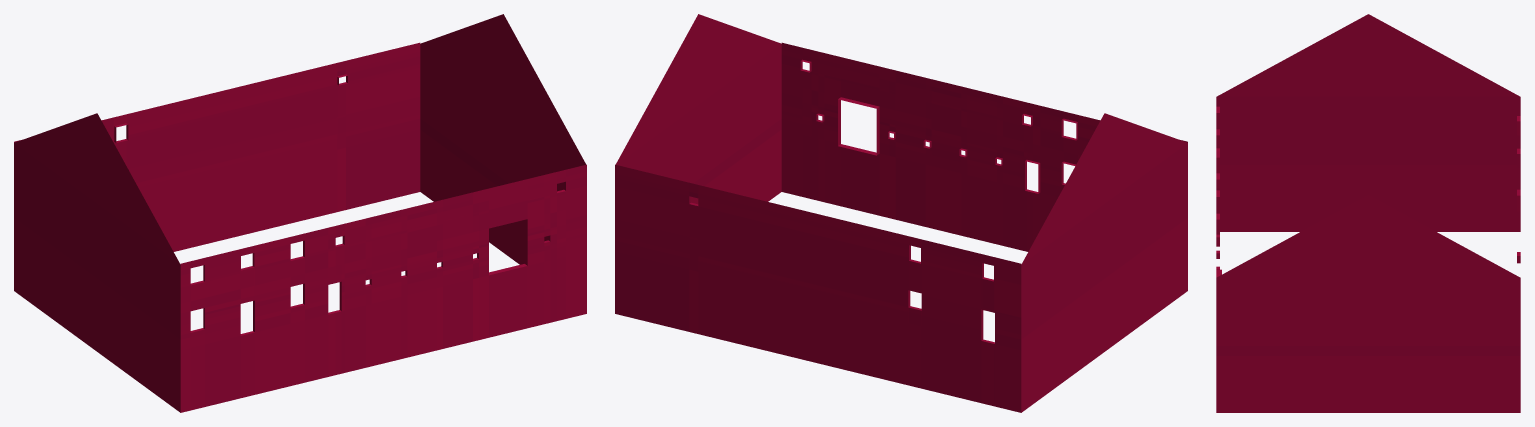
The model's file is SM_Bld_225_Masonry.glb.
3 views of the same model, side by side, from view 1: azimuth 30°, elevation 25°; view 2: azimuth 150°, elevation 25°; view 3: azimuth 270°, elevation 25° (orthographic). The views are drawn at different scales.
Parts seen in each view (by area): view 1: SM_Bld_225_Masonry; view 2: SM_Bld_225_Masonry; view 3: SM_Bld_225_Masonry.
Boxes of the visible parts, left/top/right/bottom form: SM_Bld_225_Masonry: left=14, top=14, right=586, bottom=412; SM_Bld_225_Masonry: left=615, top=14, right=1187, bottom=412; SM_Bld_225_Masonry: left=1216, top=14, right=1520, bottom=412.
Bounding box in the file's own units: 27.25 × 15.31 × 19.36.
